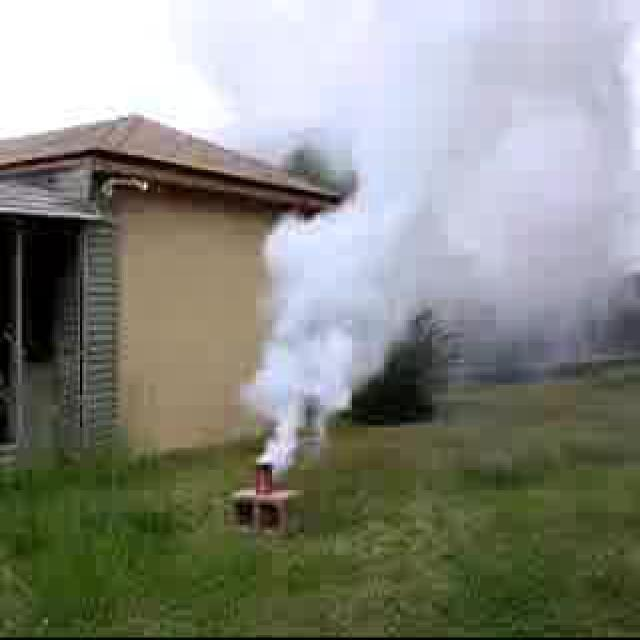Smoke: (264, 204, 400, 452)
